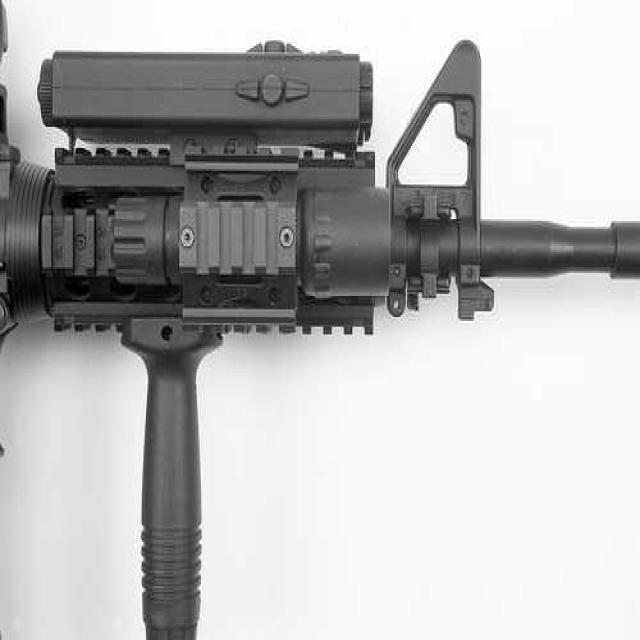RifleTel: (6, 38, 640, 471)
